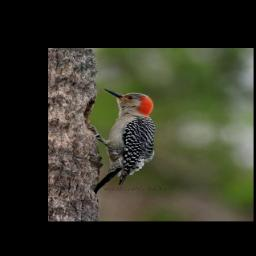Woodpecker: (90, 85, 163, 200)
